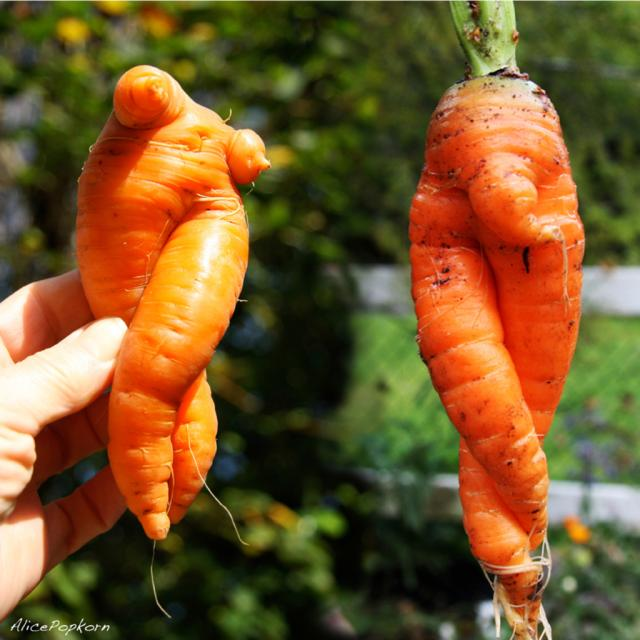carrot: (410, 3, 585, 639), (74, 60, 272, 620)
